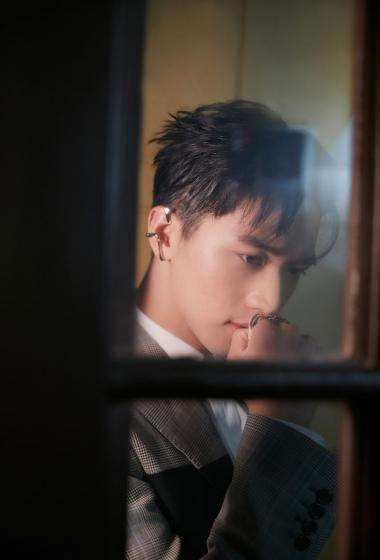person: (105, 75, 313, 533)
